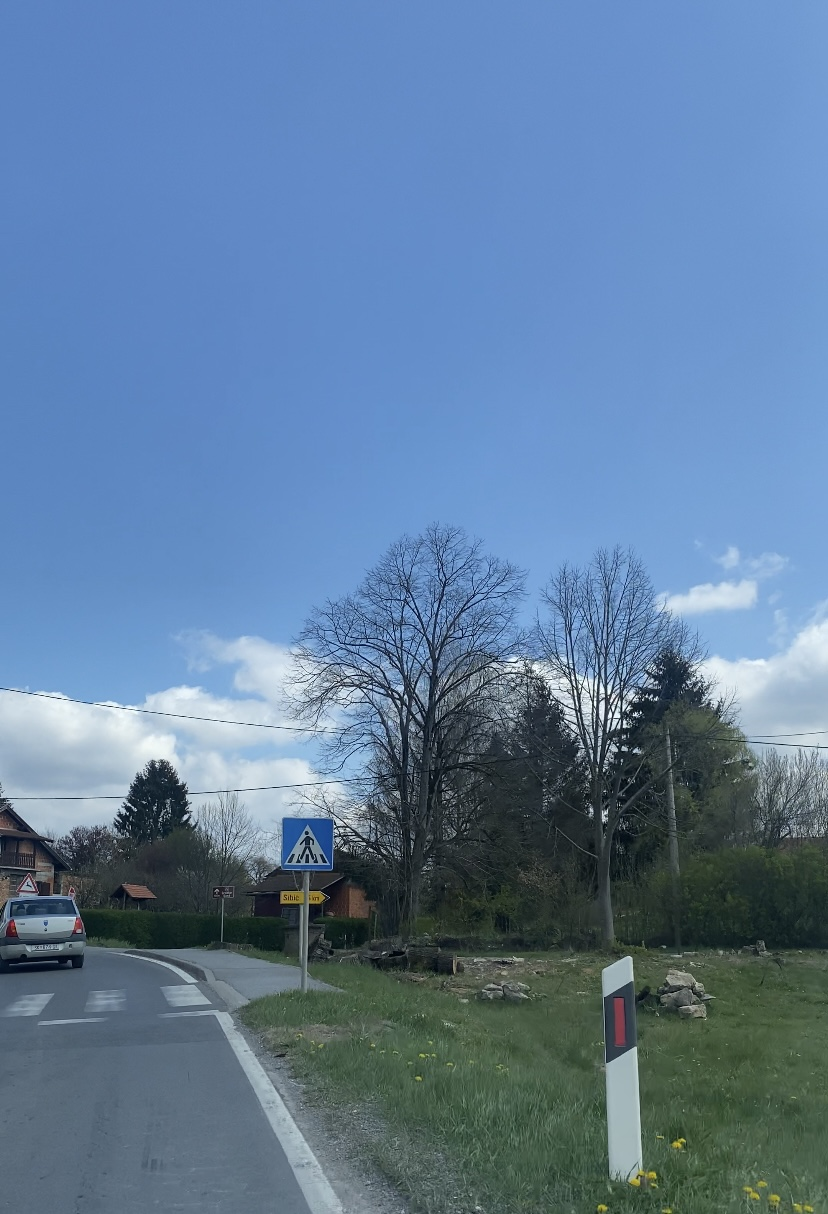Pješački prijelaz: (281, 817, 334, 870)
